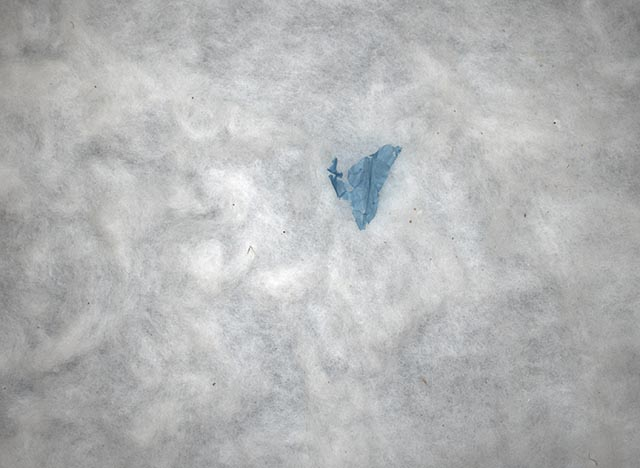plastic film: (326, 143, 404, 231)
